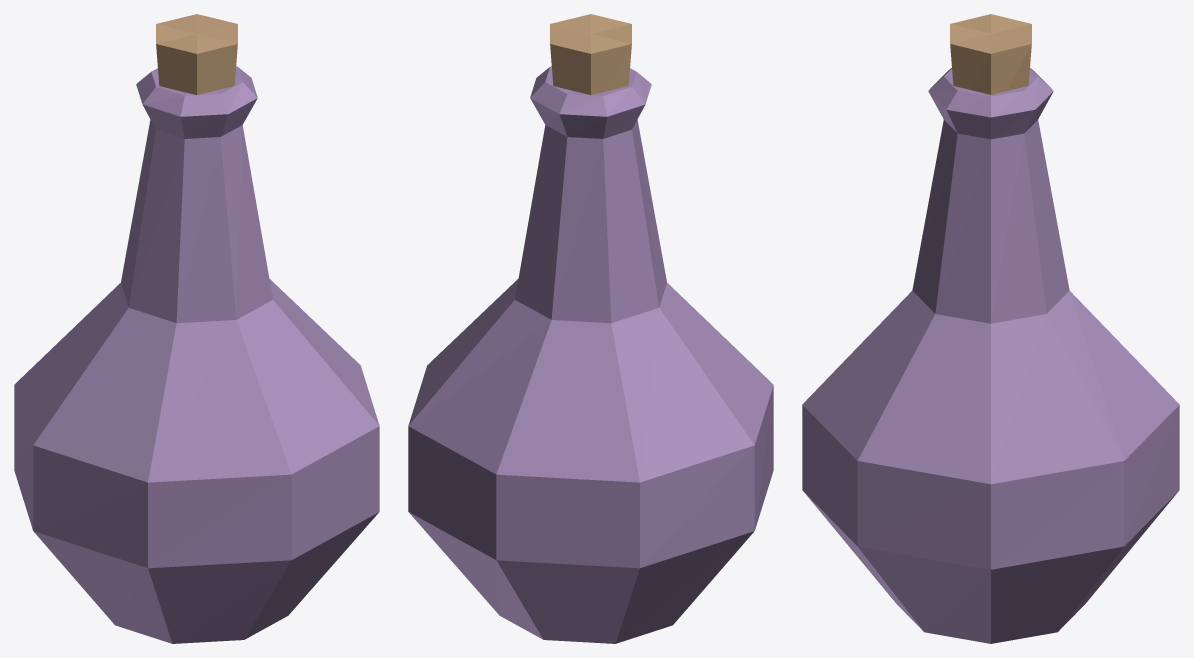
File: bottle_purple.glb
The picture shows the model from 3 angles, left to right: view 1: azimuth 30°, elevation 25°; view 2: azimuth 150°, elevation 25°; view 3: azimuth 270°, elevation 25°; orthographic projection.
Parts seen in each view (by area): view 1: bottle_purple; view 2: bottle_purple; view 3: bottle_purple.
Part boxes in pixels (x1,y1,x2,y2): bottle_purple: (14,14,379,643); bottle_purple: (408,14,773,643); bottle_purple: (802,14,1179,643).
Bounding box in the file's own units: 0.24 × 0.4 × 0.24.
